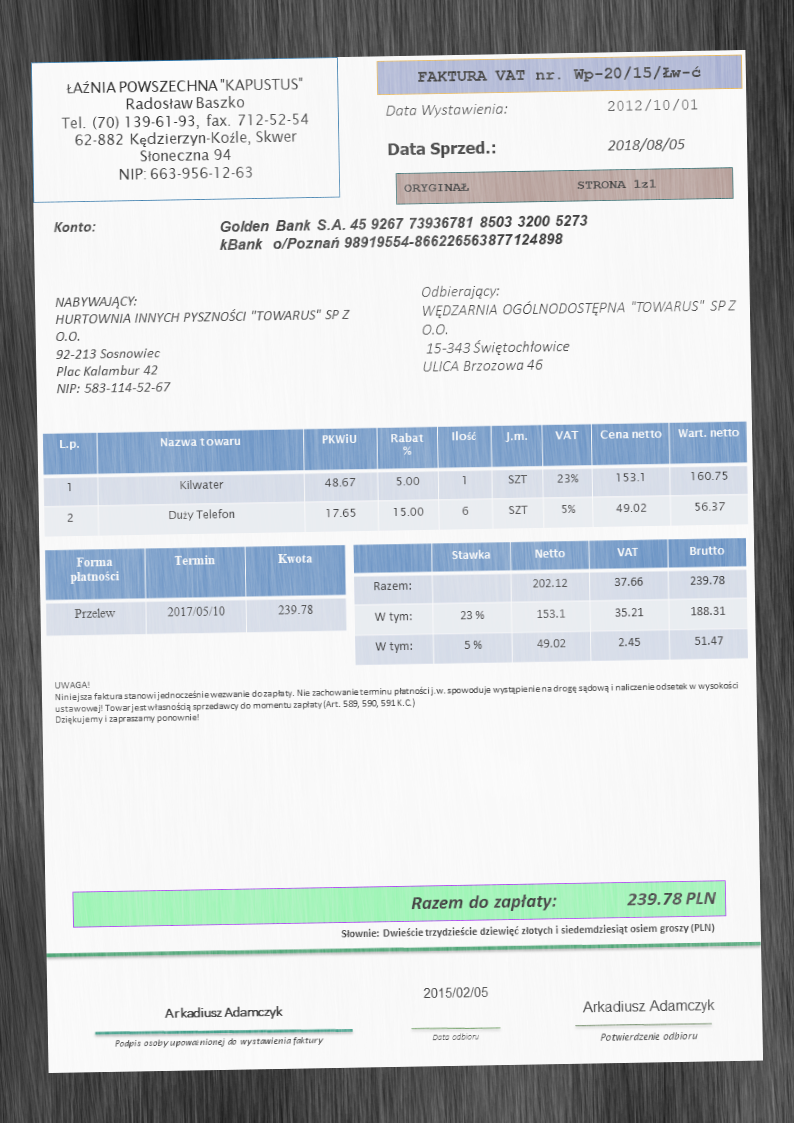Table: (41, 420, 749, 539), (352, 536, 749, 665), (42, 543, 348, 637)
TextBox: (52, 667, 740, 726), (52, 288, 354, 396), (418, 278, 738, 375), (58, 74, 312, 183), (216, 212, 590, 254), (339, 919, 715, 941), (408, 888, 719, 914), (415, 62, 705, 86), (400, 174, 658, 196), (112, 1032, 326, 1051), (580, 997, 717, 1018), (385, 137, 498, 161), (384, 100, 511, 121), (163, 1003, 285, 1022), (605, 97, 702, 116), (597, 1028, 699, 1044), (606, 136, 688, 153), (421, 983, 489, 1001), (52, 218, 96, 236), (430, 1030, 479, 1042)
